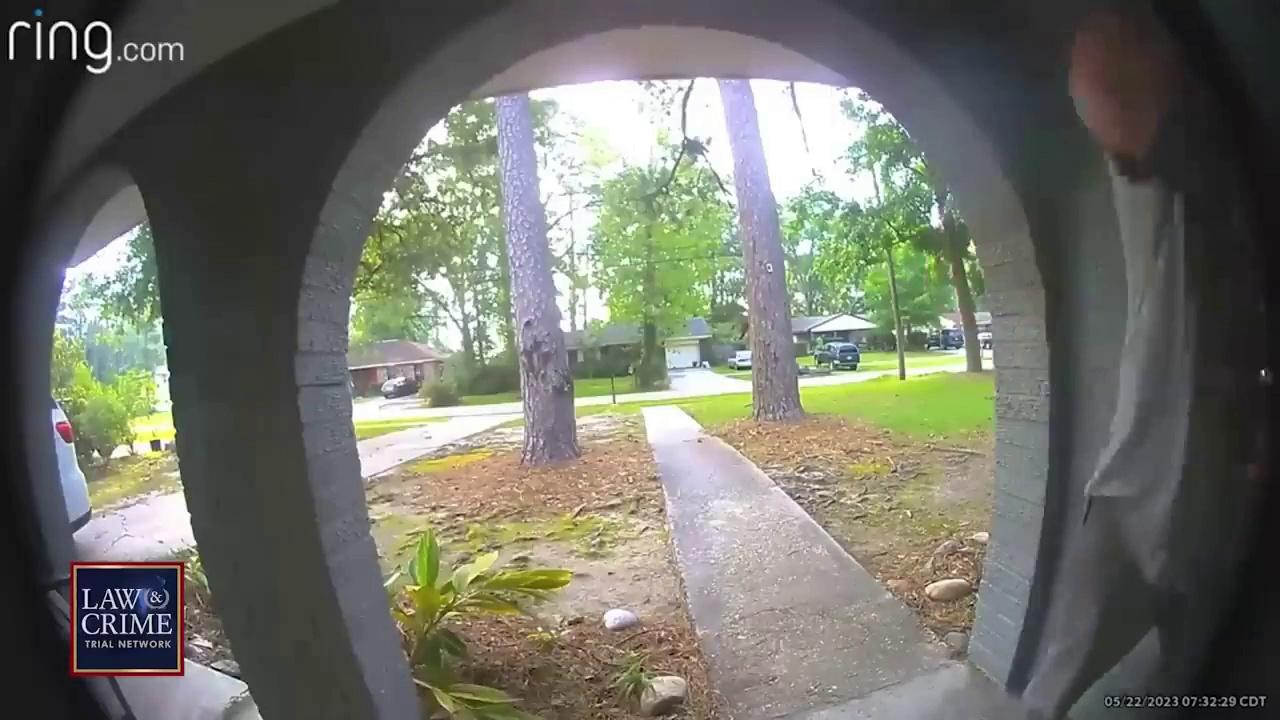suspicion: (1040, 8, 1280, 720)
